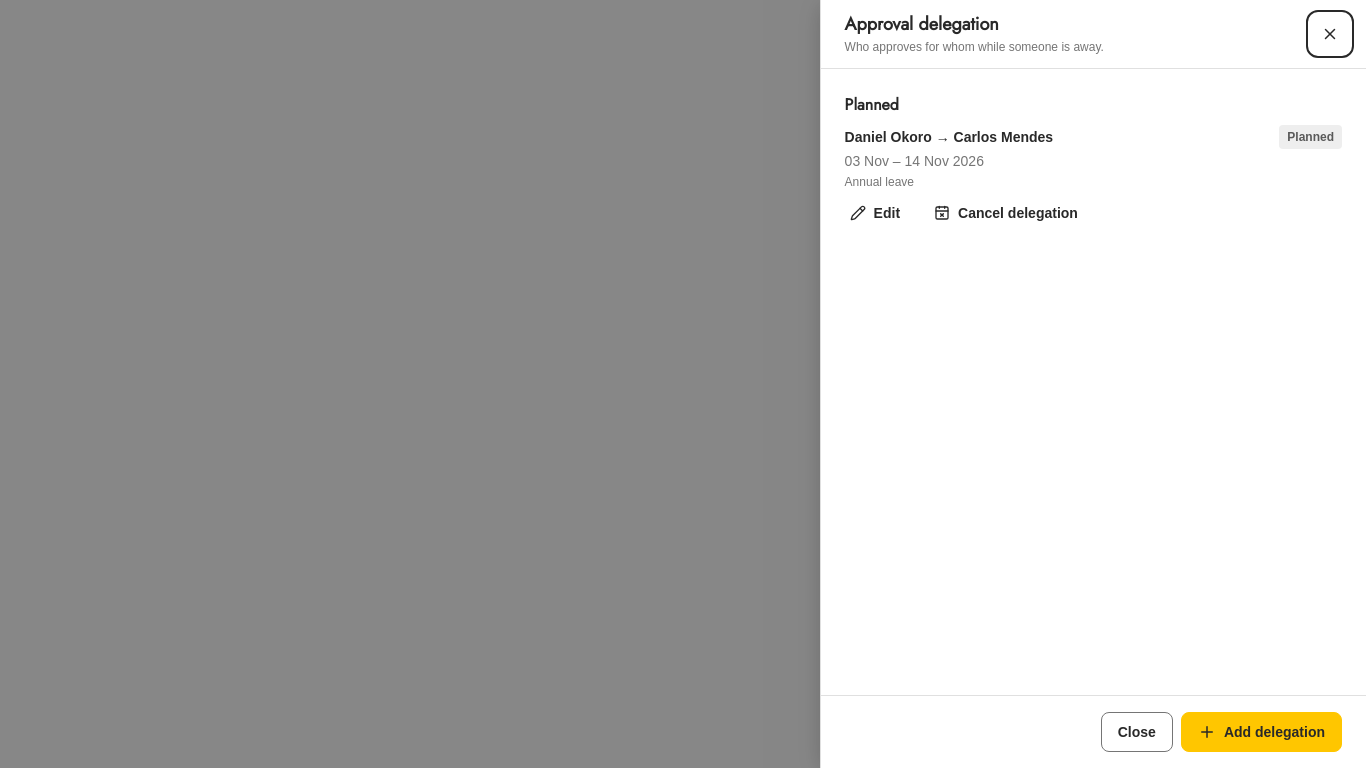
Test case: DelegationPanel (feature 017, US4) › changes a delegation, sending only what changed
The image size is (1366, 768).
Click the button with aria-label "Edit delegation Daniel Okoro → Carlos" at (875, 213), box [837,197,913,229]
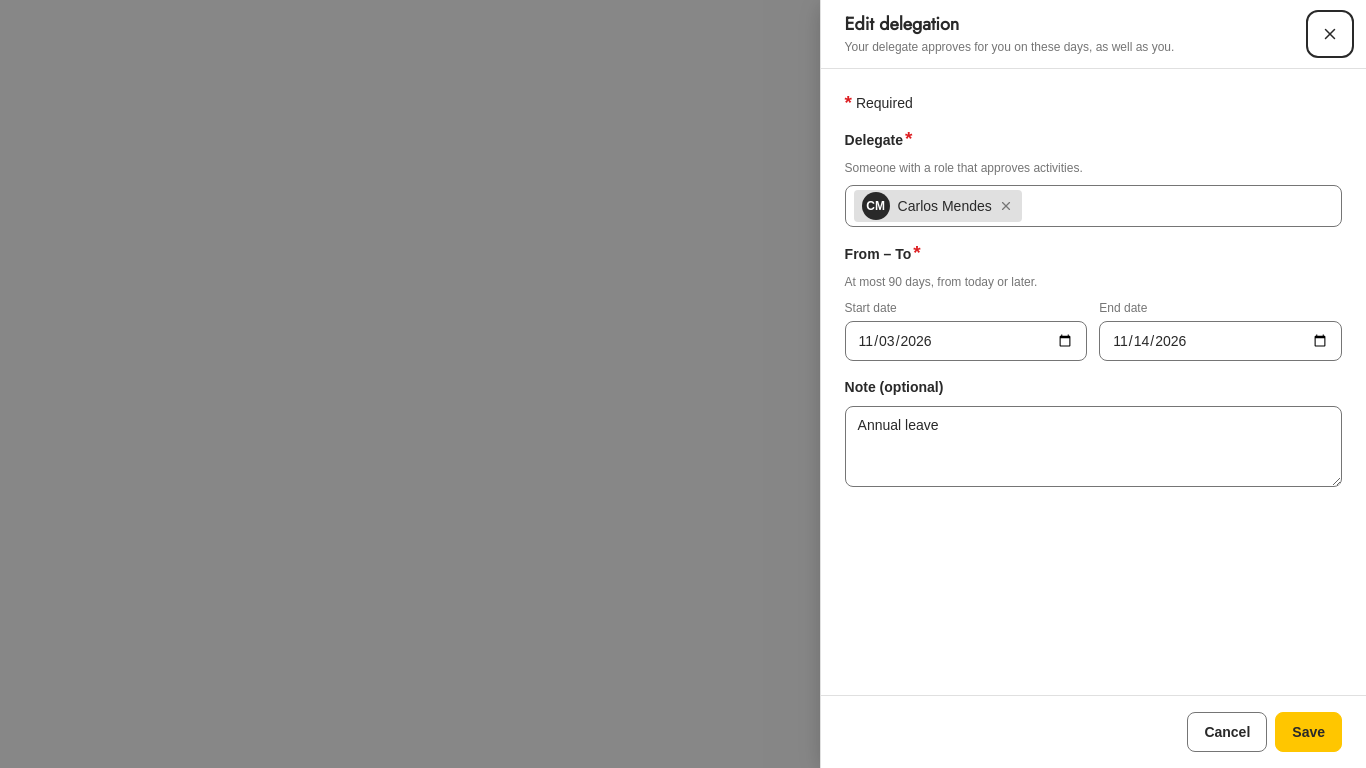
Replace the text in the text box labelled "Note (optional)" with "Conference" at (1093, 446), box [845,406,1342,487]
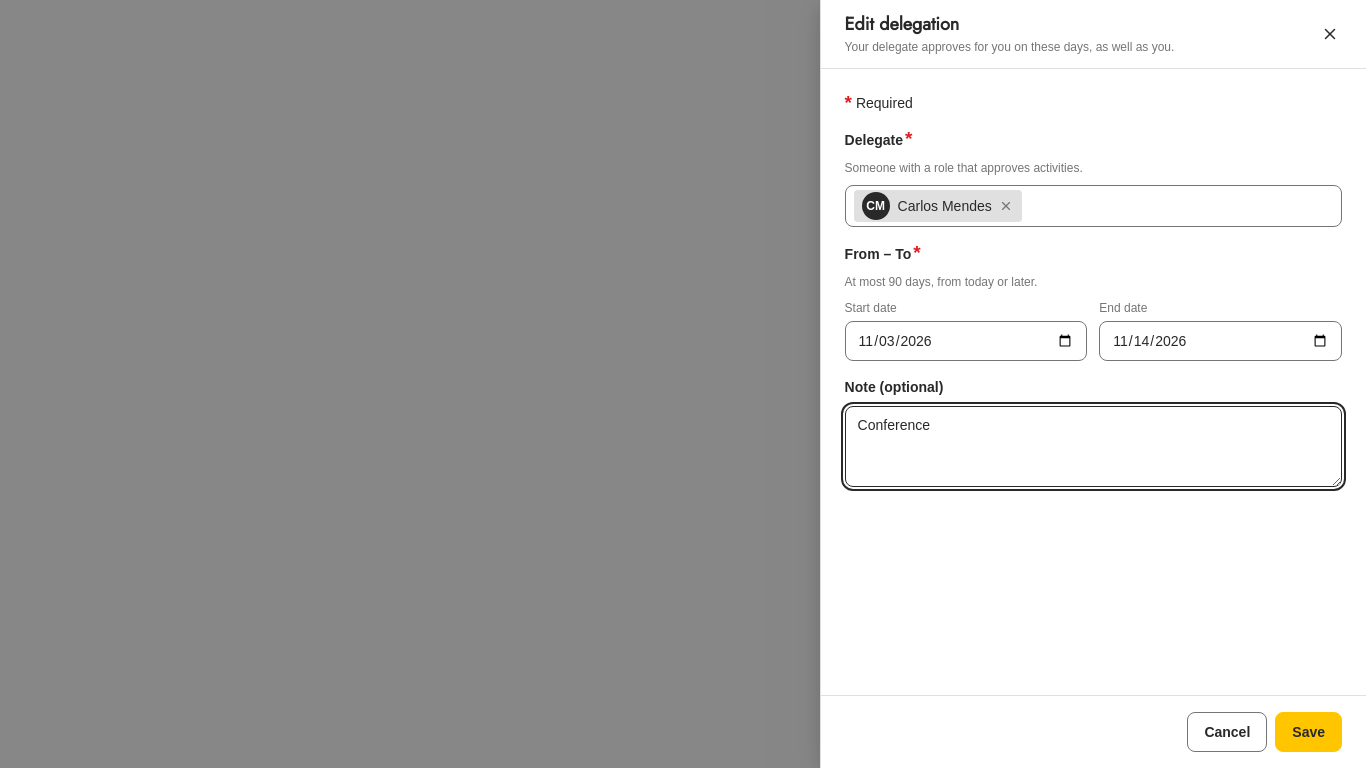
Click the button "Save" at (1309, 732), box [1275,712,1342,752]
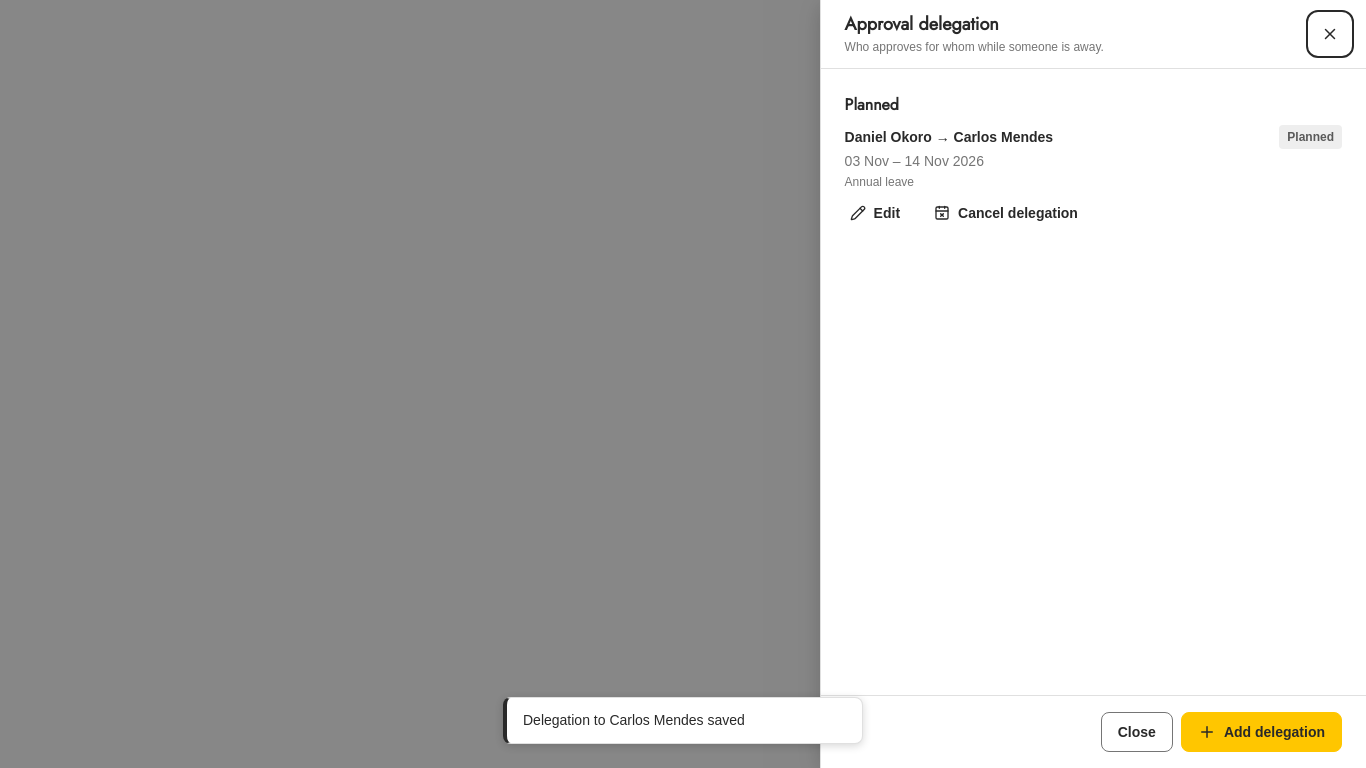
Expected: the text "Delegation to Carlos Mendes saved" is shown, [523,712,745,728]
